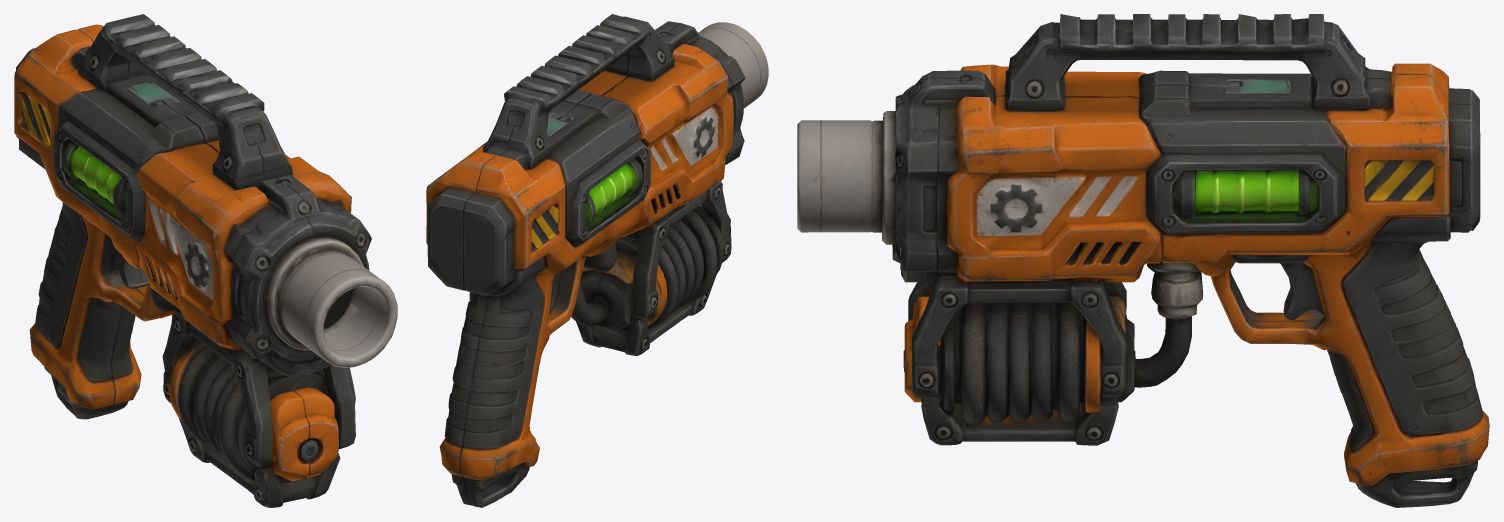
Rendered from gen-blaster.glb.
3 views of the same model, side by side, from view 1: azimuth 30°, elevation 25°; view 2: azimuth 150°, elevation 25°; view 3: azimuth 270°, elevation 25° (orthographic). The views are drawn at different scales.
Visible parts, largest first — view 1: tripo_node_76b4a70d-2bbc-4064-af11-2bfaf2da836e; view 2: tripo_node_76b4a70d-2bbc-4064-af11-2bfaf2da836e; view 3: tripo_node_76b4a70d-2bbc-4064-af11-2bfaf2da836e.
Boxes of the visible parts, bbox=[...] form: tripo_node_76b4a70d-2bbc-4064-af11-2bfaf2da836e: bbox=[14, 14, 397, 507]; tripo_node_76b4a70d-2bbc-4064-af11-2bfaf2da836e: bbox=[426, 14, 768, 507]; tripo_node_76b4a70d-2bbc-4064-af11-2bfaf2da836e: bbox=[797, 14, 1489, 507].
Size of the model in its own units: 0.2643 by 0.7584 by 1.
1 material, 1 textured.
